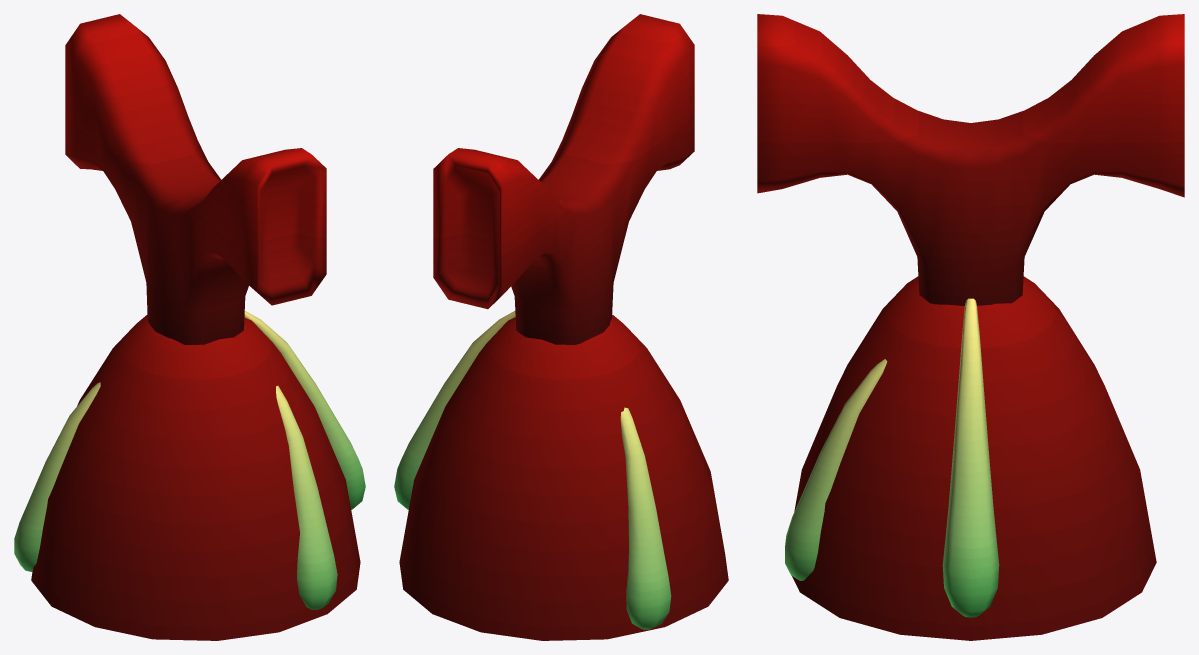
Rendered from Demon_Flesh_Source_1_Adjusted.fbx.
3 views of the same model, side by side, from view 1: azimuth 30°, elevation 25°; view 2: azimuth 150°, elevation 25°; view 3: azimuth 270°, elevation 25° (orthographic). The views are drawn at different scales.
Visible parts, largest first — view 1: Demon_Flesh_Source_1_Adjusted; view 2: Demon_Flesh_Source_1_Adjusted; view 3: Demon_Flesh_Source_1_Adjusted.
Part boxes in pixels (x1,y1,x2,y2): Demon_Flesh_Source_1_Adjusted: [14, 14, 365, 640]; Demon_Flesh_Source_1_Adjusted: [394, 14, 728, 640]; Demon_Flesh_Source_1_Adjusted: [757, 14, 1184, 640].
Size of the model in its own units: 6.47 by 9.9 by 6.91.
